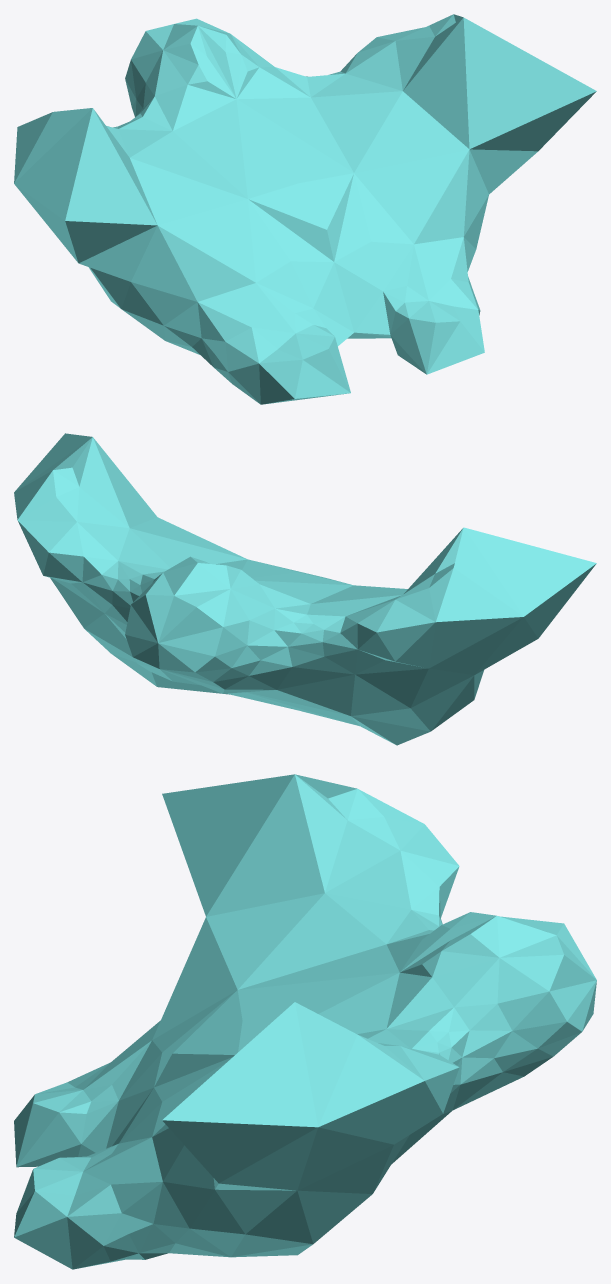
The model's file is better centered bird killer t cell.fbx.
3 views of the same model, one above another, from view 1: azimuth 30°, elevation 25°; view 2: azimuth 150°, elevation 25°; view 3: azimuth 270°, elevation 25° (orthographic). The views are drawn at different scales.
Visible parts, largest first — view 1: new_bird_killer_t_cell:Mesh; view 2: new_bird_killer_t_cell:Mesh; view 3: new_bird_killer_t_cell:Mesh.
Boxes of the visible parts, x1,y1,x2,y2 form: new_bird_killer_t_cell:Mesh: (14, 14, 596, 404); new_bird_killer_t_cell:Mesh: (14, 433, 596, 745); new_bird_killer_t_cell:Mesh: (14, 774, 596, 1269).
Size of the model in its own units: 6.67 by 3.02 by 5.03.
